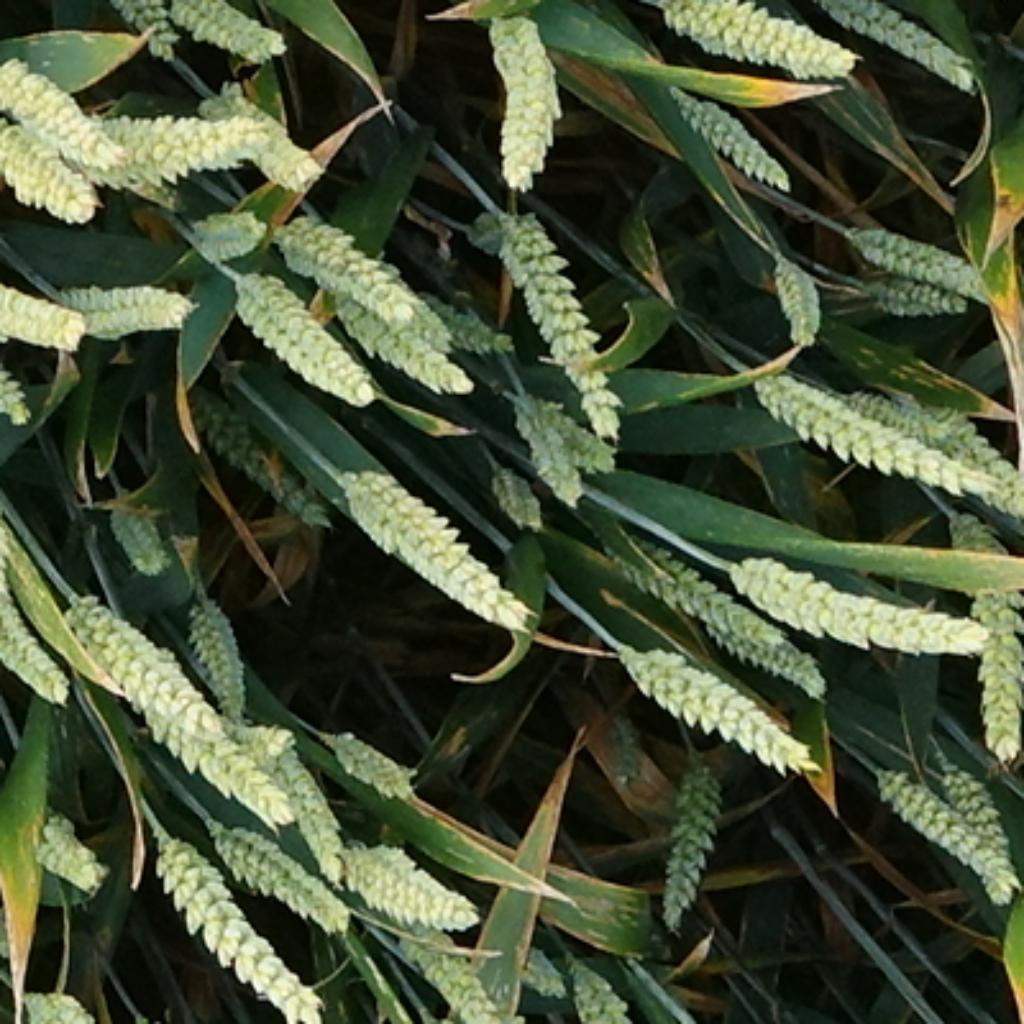0-0: (734, 355, 1021, 506), (146, 828, 335, 1024), (704, 535, 983, 660), (330, 448, 524, 627), (609, 629, 826, 778), (494, 204, 624, 442), (599, 532, 801, 655), (217, 258, 378, 409), (64, 591, 227, 739), (276, 215, 450, 353), (870, 742, 1016, 903), (128, 691, 289, 829), (189, 386, 330, 537), (30, 104, 273, 186), (823, 0, 993, 98), (839, 204, 993, 312), (476, 14, 566, 198), (335, 279, 478, 394), (197, 821, 345, 931), (656, 75, 797, 190), (335, 826, 483, 929), (199, 76, 322, 199), (650, 0, 857, 71), (268, 734, 353, 893), (934, 752, 1021, 906), (650, 750, 729, 916), (383, 932, 518, 1024), (701, 606, 826, 701), (0, 527, 69, 696), (952, 588, 1024, 747), (0, 51, 112, 151), (0, 110, 97, 225), (125, 704, 296, 765), (501, 409, 606, 504), (934, 399, 1024, 504), (51, 271, 194, 335), (519, 391, 629, 471), (936, 506, 1024, 604), (320, 714, 417, 796), (181, 593, 248, 709), (414, 281, 512, 358), (23, 796, 104, 888), (837, 378, 952, 442), (844, 261, 980, 314), (0, 271, 81, 356), (161, 0, 281, 56), (104, 496, 176, 578), (761, 258, 823, 350), (560, 954, 634, 1024), (501, 931, 570, 1000), (186, 197, 266, 253), (486, 463, 547, 532), (71, 0, 174, 35), (601, 711, 645, 785), (21, 989, 100, 1023)
